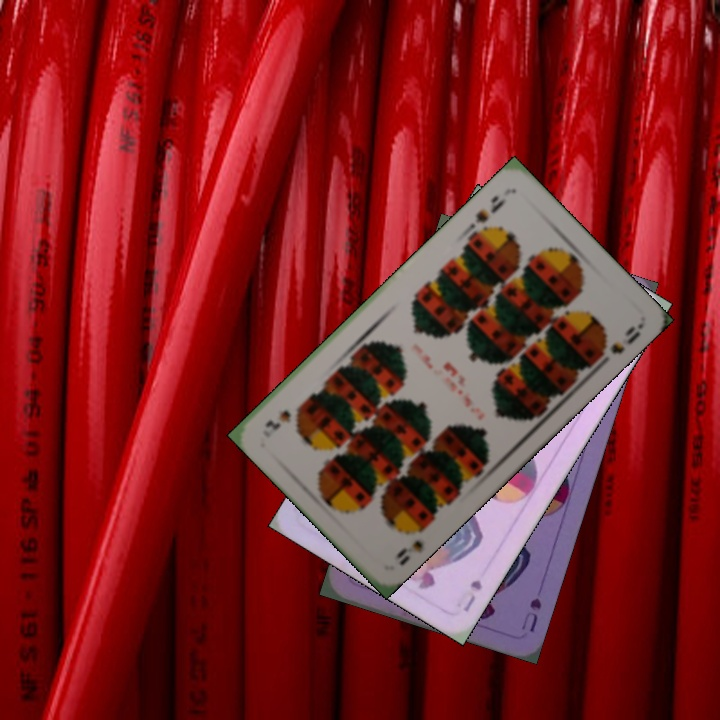S9: (392, 521, 431, 569), (471, 191, 509, 226)
SU: (517, 593, 545, 635), (458, 575, 485, 615)
